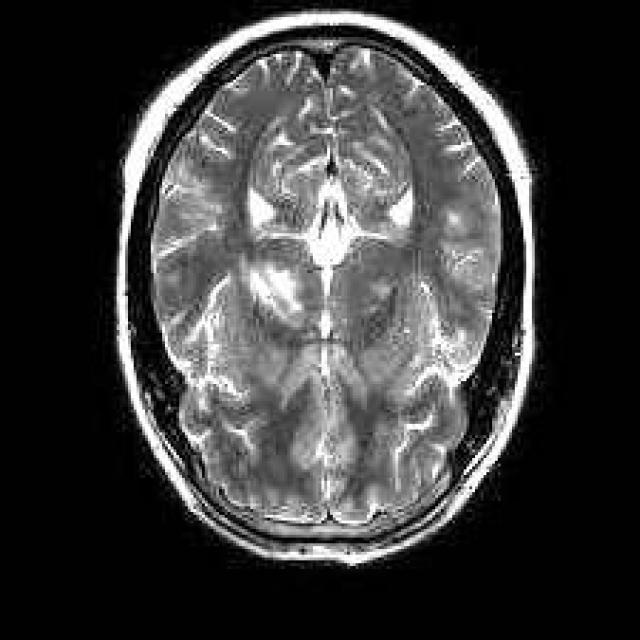no-tumor: (171, 116, 450, 478)
